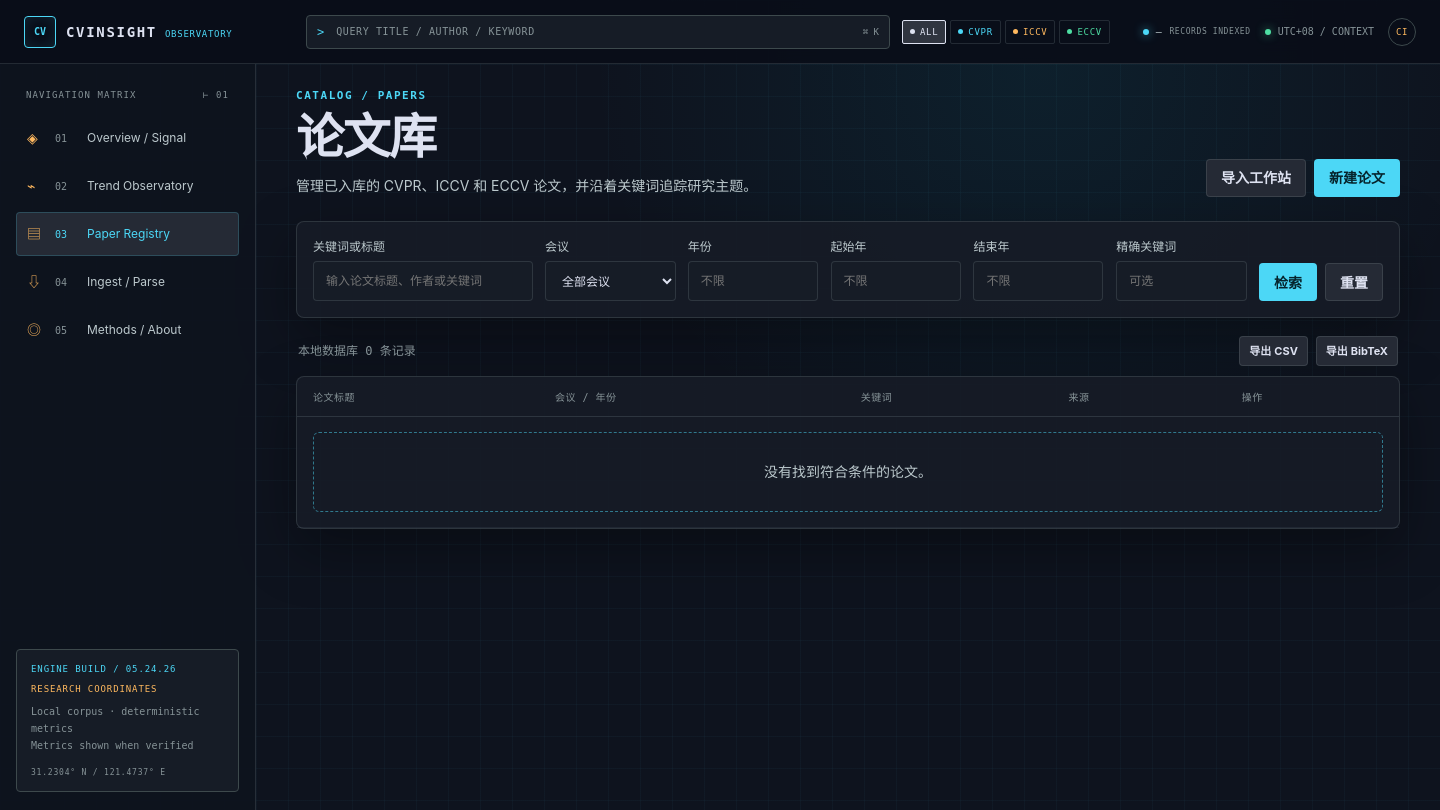
Scenario: PapersView exports › releases the Blob URL when the browser click fails
Click the button with class "export-csv" at (1274, 352), box [1239,336,1308,366]
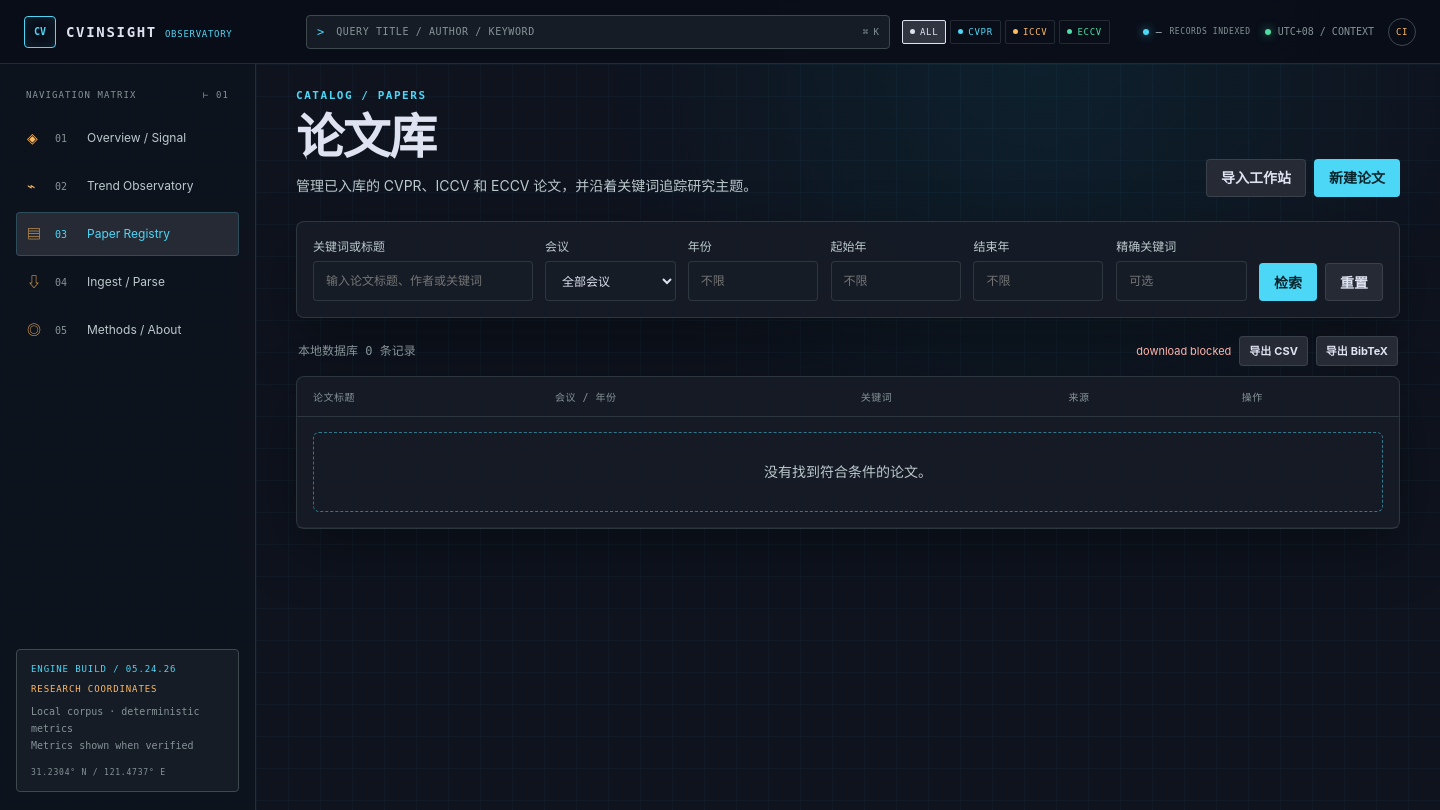
Result: the text "download blocked" is shown at [1136,343,1231,360]
